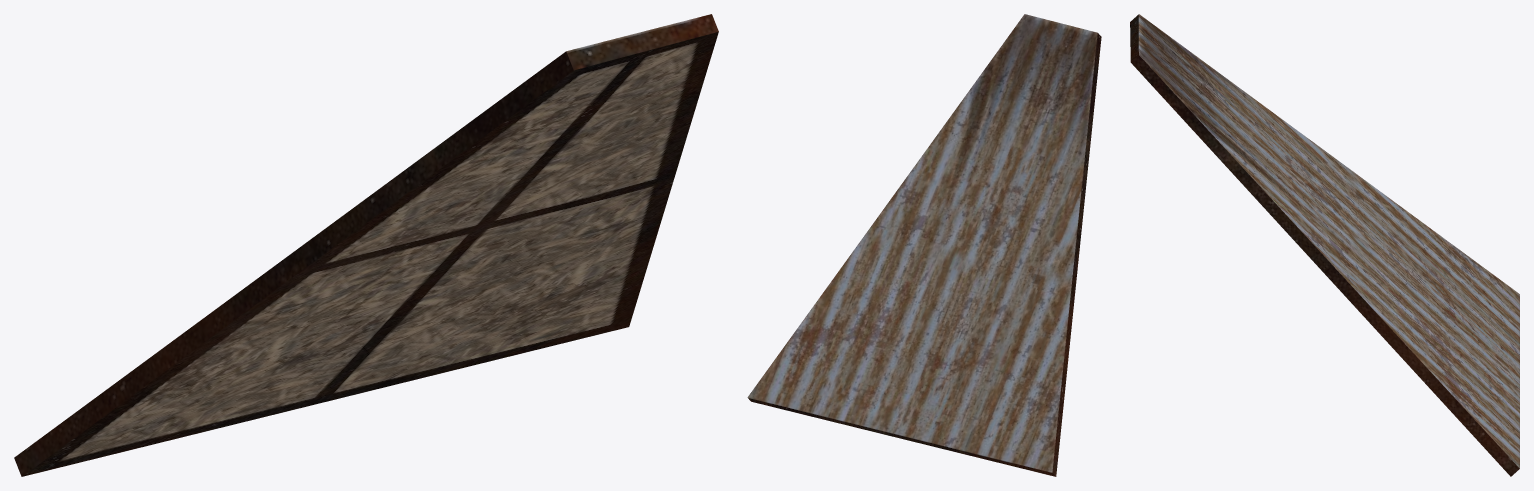
File: metal_roof_triangle_textured.glb
3 views of the same model, side by side, from view 1: azimuth 30°, elevation 25°; view 2: azimuth 150°, elevation 25°; view 3: azimuth 270°, elevation 25° (orthographic). The views are drawn at different scales.
Parts seen in each view (by area): view 1: Plane; view 2: Plane; view 3: Plane.
Boxes of the visible parts, left/top/right/bottom form: Plane: left=14, top=14, right=718, bottom=476; Plane: left=747, top=14, right=1101, bottom=476; Plane: left=1130, top=14, right=1519, bottom=476.
Size of the model in its own units: 2.23 by 2.11 by 2.09.
Materials: 1 (1 with a texture image).
